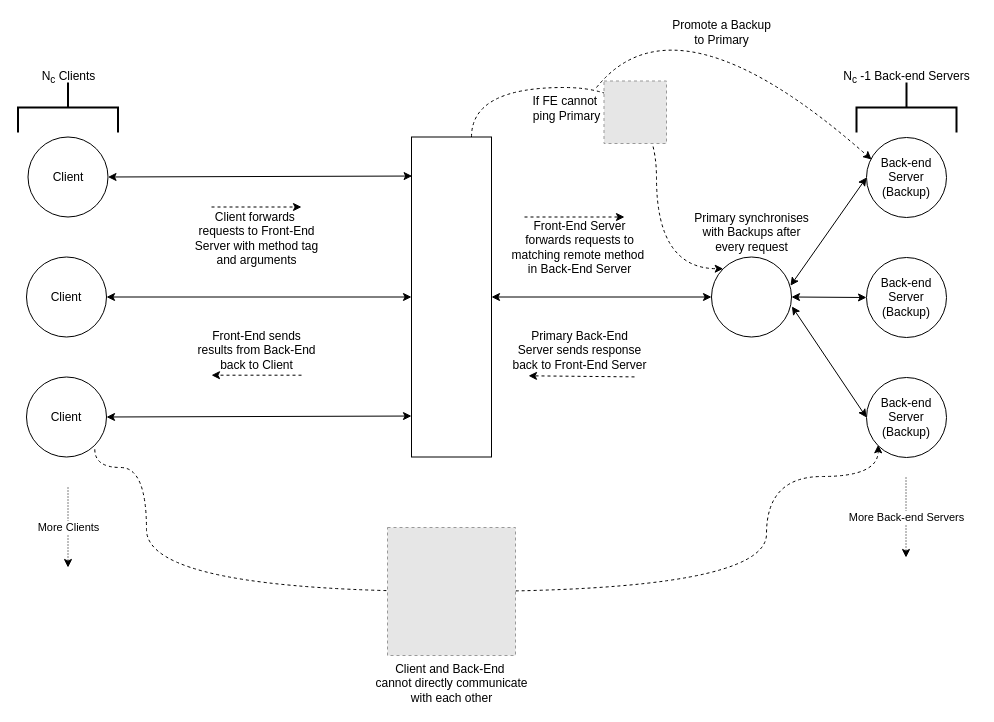
This 994x722 diagram has some shape labels left out. Grey dashed boxes stand in for pictures. The centre of each missing label's shape, as x and y in pixels:
"Back-end Server (Primary)" belongs at point 751,296.
"Front-end Server" belongs at point 451,296.
